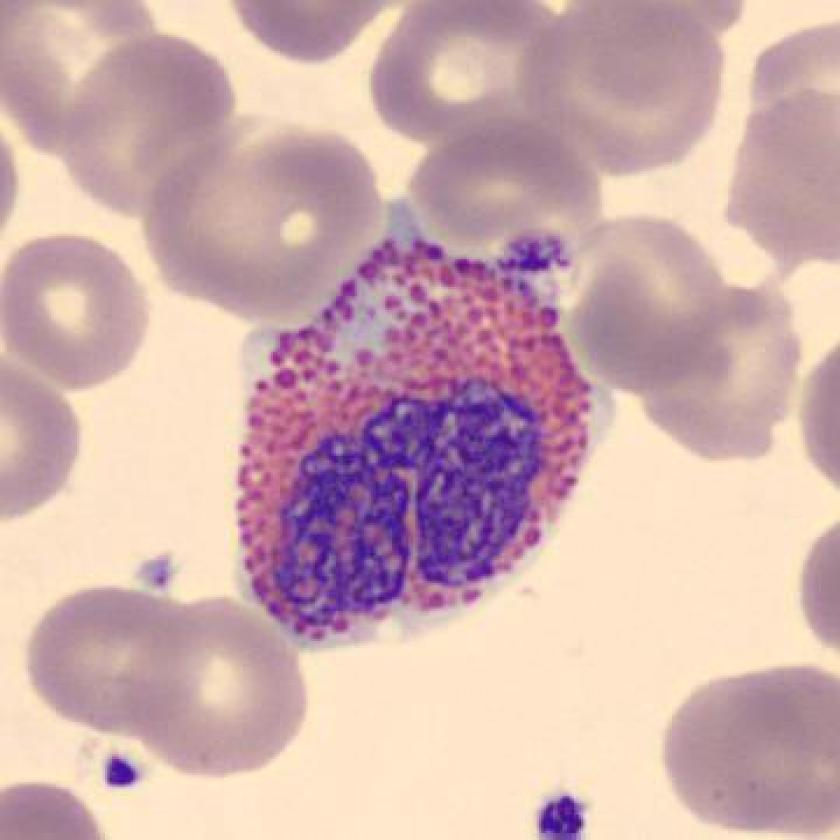eosinophil: (211, 209, 633, 663)
